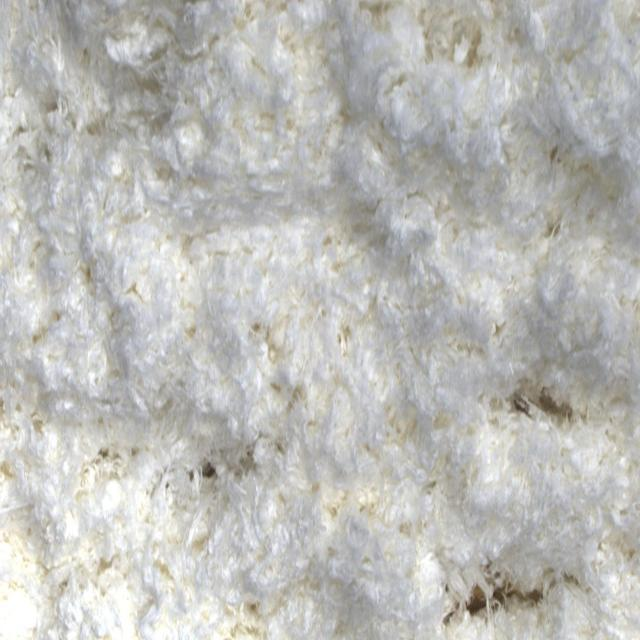dust: (466, 569, 541, 614), (516, 388, 554, 412)
